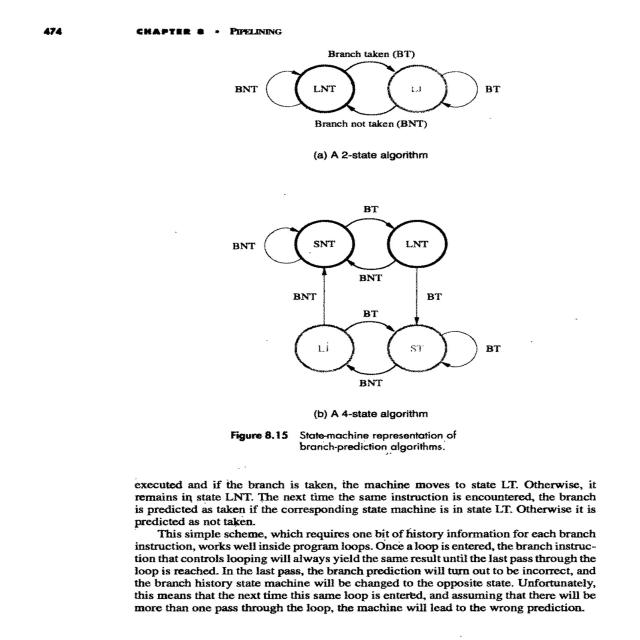diagram: (152, 40, 638, 458)
